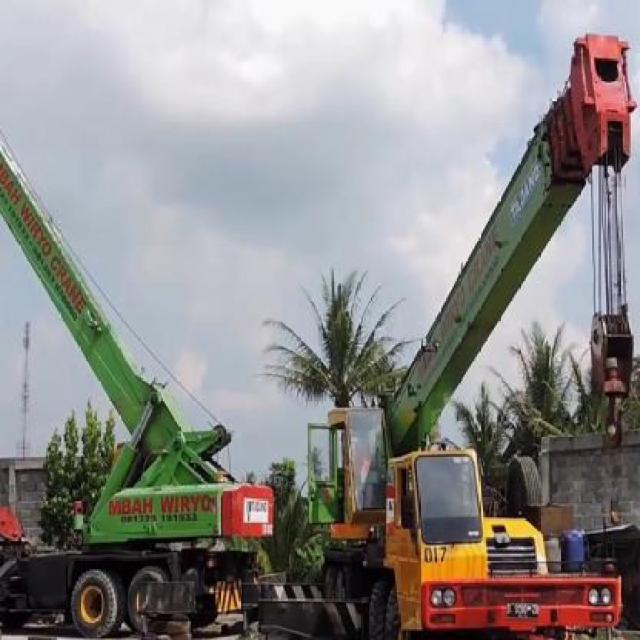Mobile Crane: (256, 3, 639, 639), (0, 99, 260, 633)
